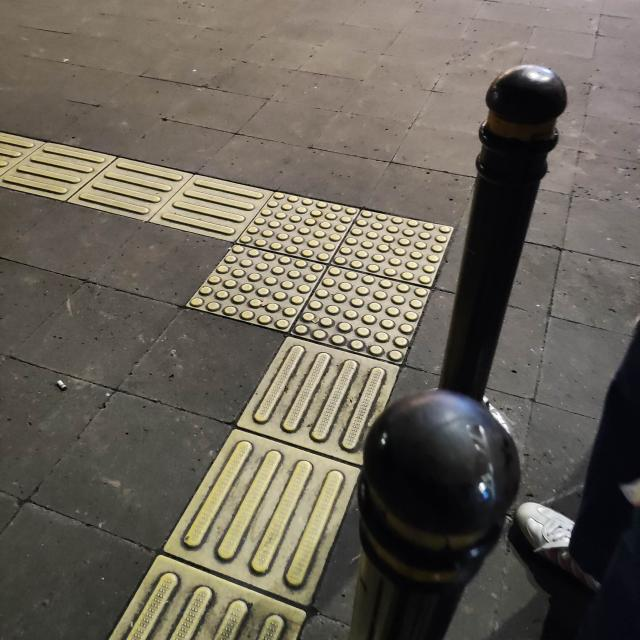kiri: (127, 118, 450, 460)
